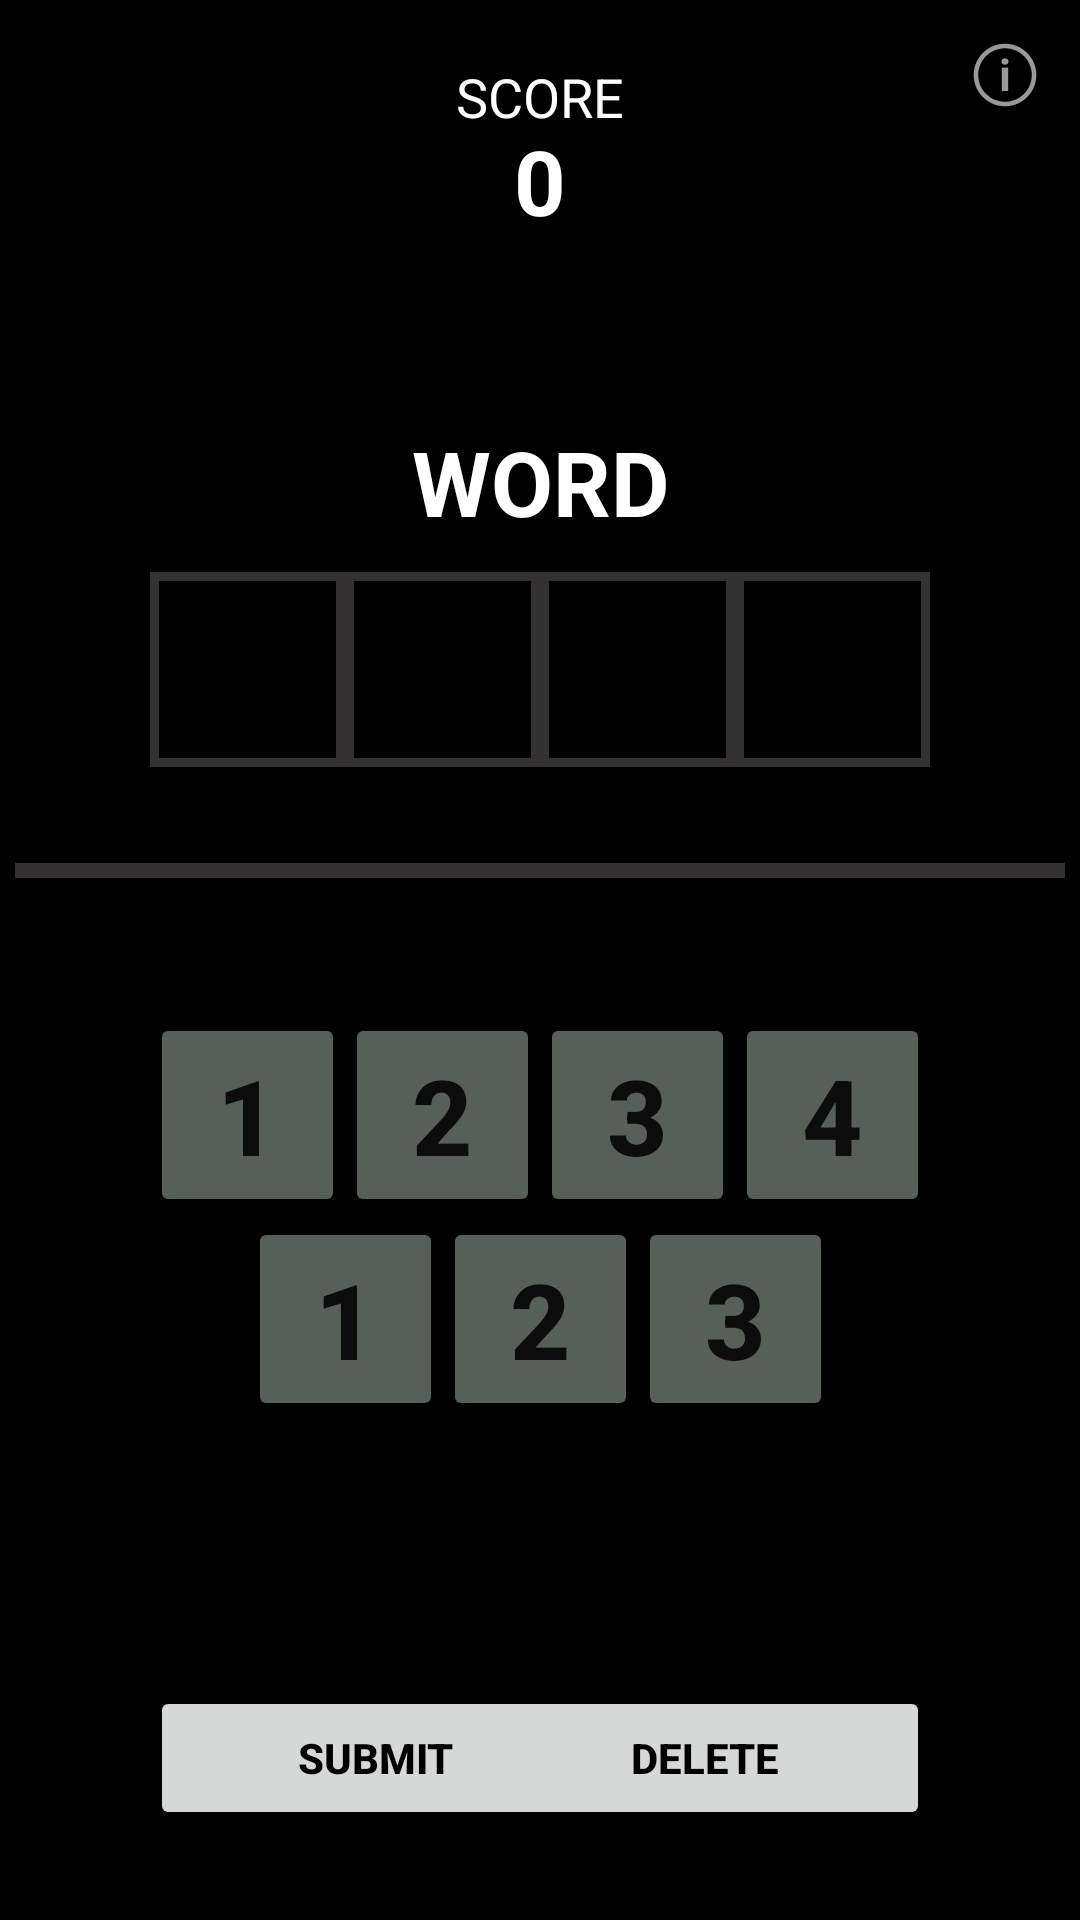

Locate icon controls on the screen. Image size 1080x1920, boxes as box(x1, y1, x2, y2).
info details: box(973, 43, 1037, 107)
